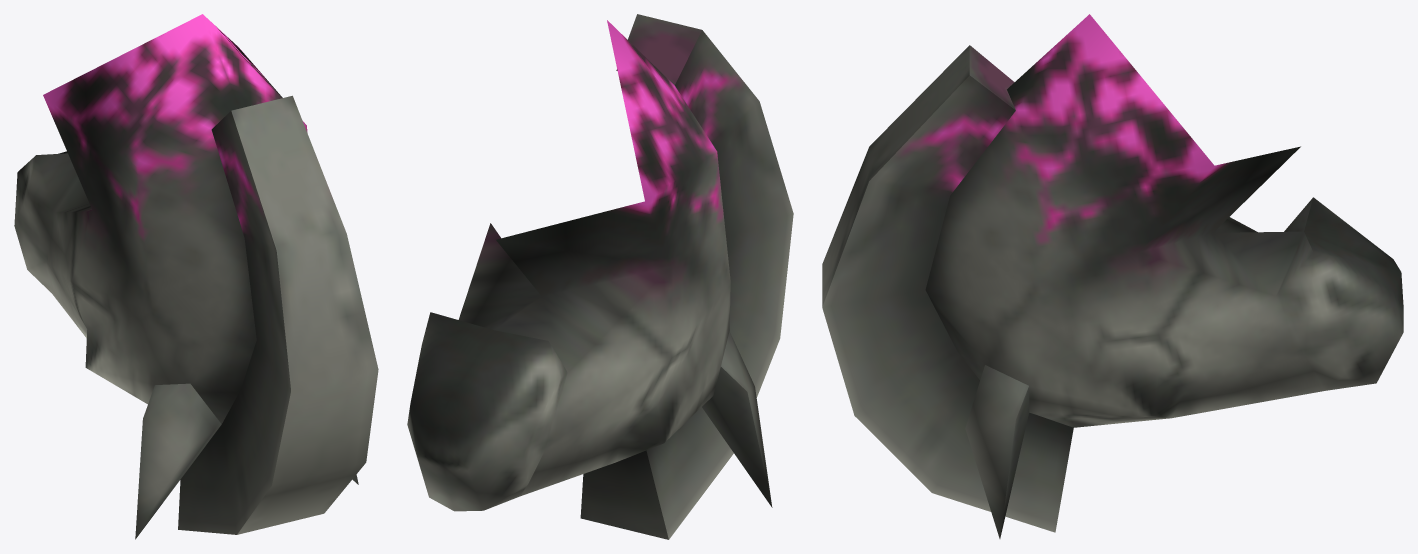
File: model_head_trojan.glb
The picture shows the model from 3 angles, left to right: view 1: azimuth 30°, elevation 25°; view 2: azimuth 150°, elevation 25°; view 3: azimuth 270°, elevation 25°; orthographic projection. The views are drawn at different scales.
Parts seen in each view (by area): view 1: monster_parts.model_head_trojan-Mesh[0]; view 2: monster_parts.model_head_trojan-Mesh[0]; view 3: monster_parts.model_head_trojan-Mesh[0].
Part boxes in pixels (<box>): monster_parts.model_head_trojan-Mesh[0]: <box>14,14,378,539</box>; monster_parts.model_head_trojan-Mesh[0]: <box>407,14,793,539</box>; monster_parts.model_head_trojan-Mesh[0]: <box>822,14,1403,538</box>.
Bounding box in the file's own units: 0.534 × 1.13 × 1.19.
1 material, 1 textured.
